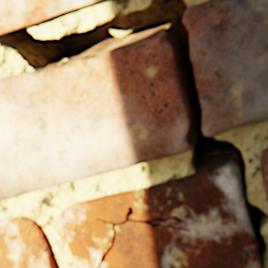brick: (60, 168, 260, 267), (0, 0, 106, 35), (0, 217, 55, 267), (259, 148, 267, 206)
broken_brick: (0, 38, 192, 201), (182, 0, 267, 136)
crack: (0, 0, 267, 266), (96, 207, 189, 267)
